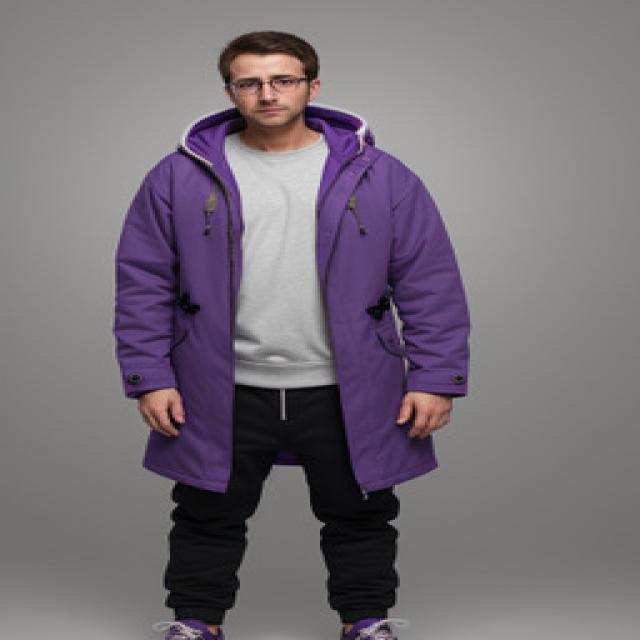Ai human 2: (100, 18, 488, 640)
